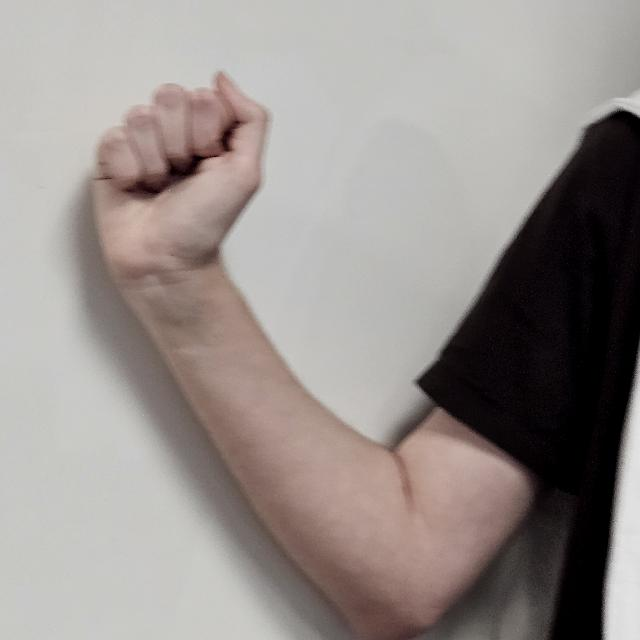Quadro: (91, 68, 271, 276)
